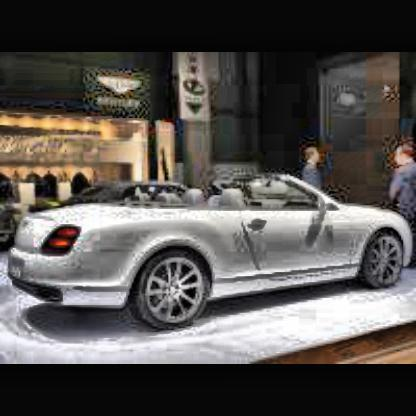Bentley Continental Supersports Conv- Convertible 2012: (6, 169, 415, 339)
